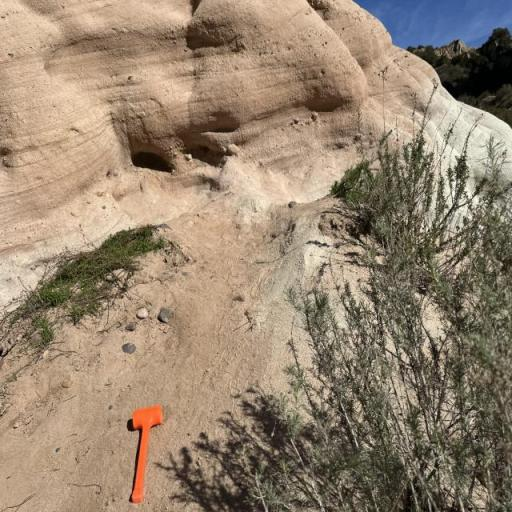mallet: (132, 405, 162, 504)
